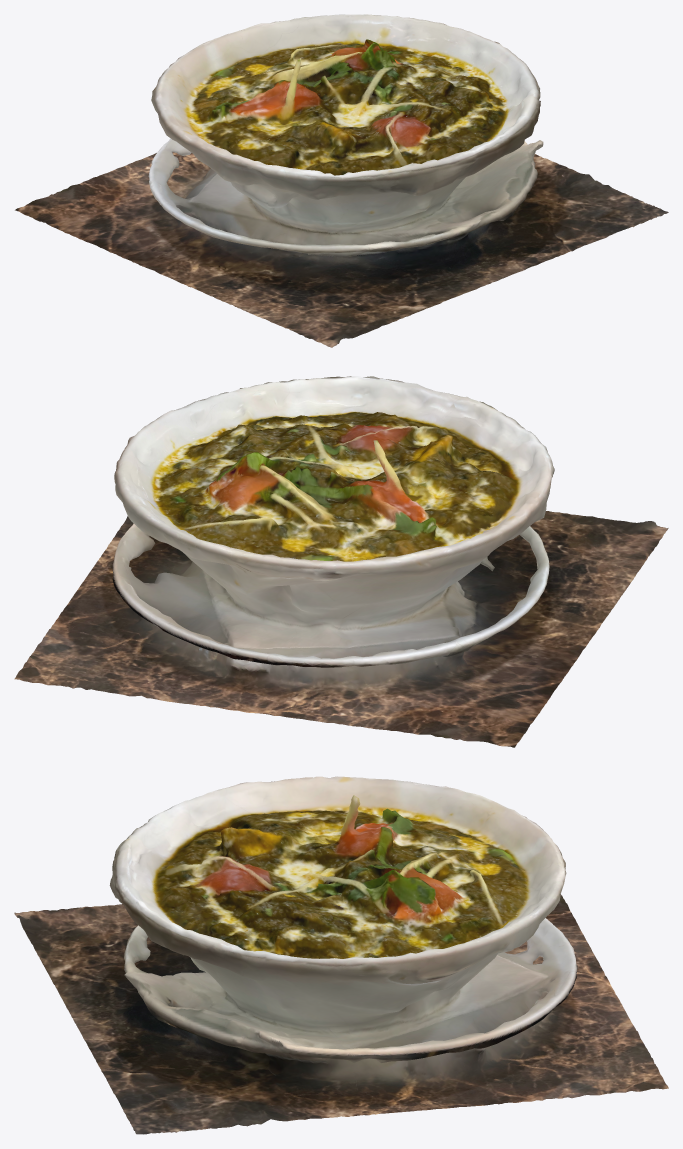
The model's file is dish.glb.
The picture shows the model from 3 angles, top to bottom: view 1: azimuth 30°, elevation 25°; view 2: azimuth 150°, elevation 25°; view 3: azimuth 270°, elevation 25°; orthographic projection. The views are drawn at different scales.
Parts seen in each view (by area): view 1: Object_2; view 2: Object_2; view 3: Object_2.
Boxes of the visible parts, <box> form: Object_2: <box>15,14,668,347</box>; Object_2: <box>14,376,668,747</box>; Object_2: <box>14,776,668,1134</box>.
Bounding box in the file's own units: 0.247 × 0.0795 × 0.2479.
Materials: 1 (1 with a texture image).
